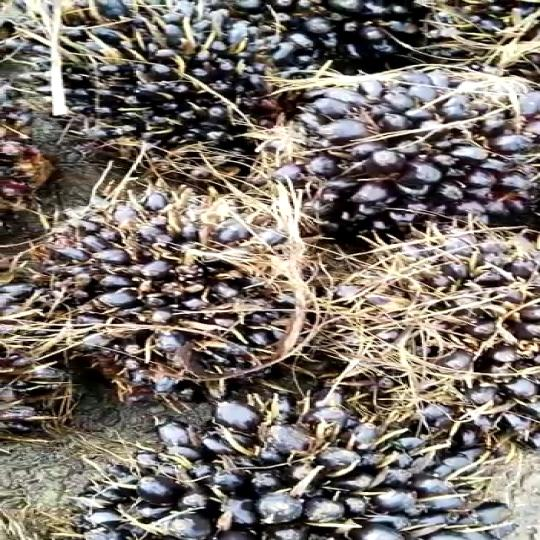mentah: (12, 166, 313, 406), (53, 389, 508, 539), (7, 0, 324, 162), (313, 200, 540, 410), (286, 65, 540, 232)
